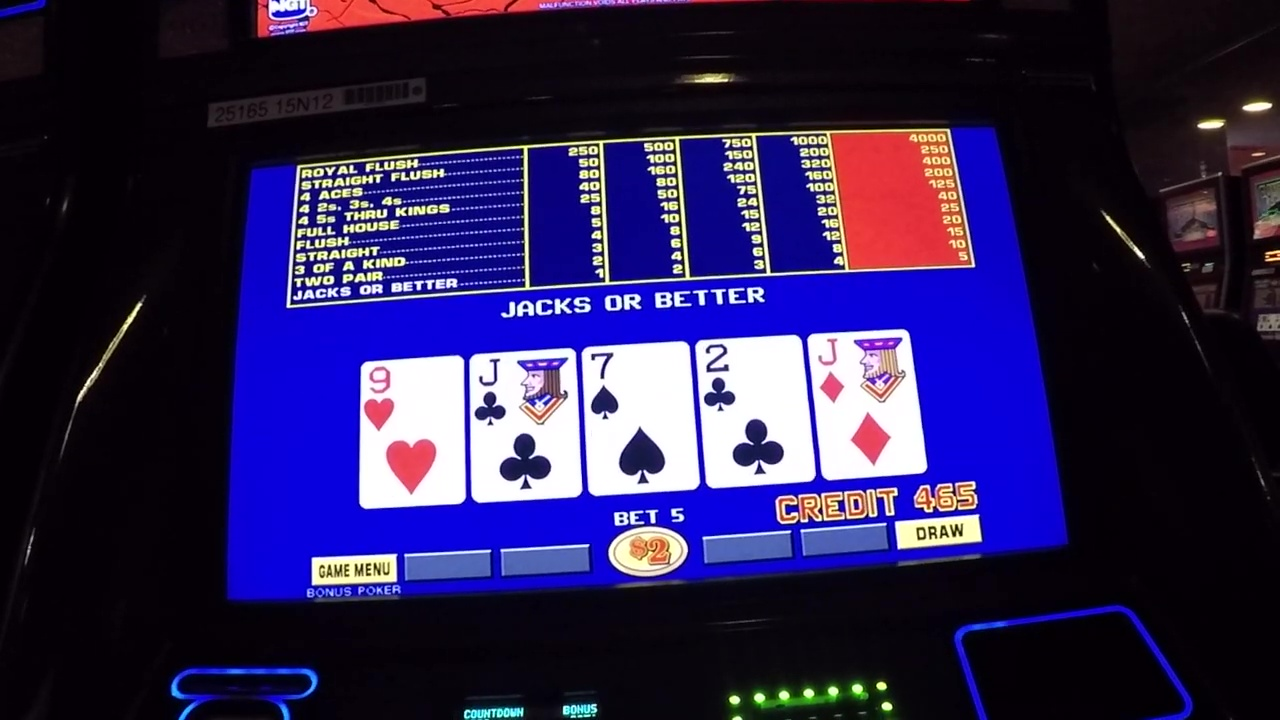C2: (699, 343, 803, 415)
CJ: (474, 360, 574, 429)
DJ: (817, 337, 911, 407)
H9: (364, 361, 461, 436)
S7: (585, 347, 687, 421)
